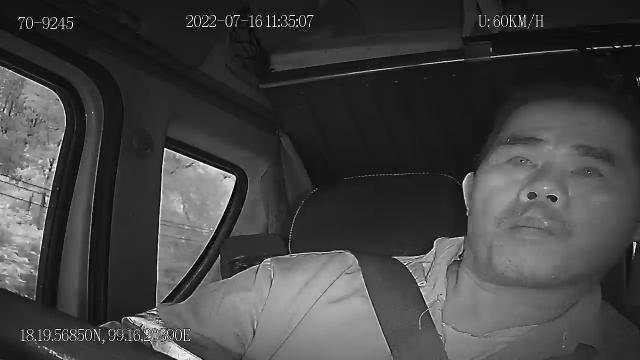SafeDriving: (560, 153, 616, 192), (497, 144, 543, 176)
Seatbelt: (355, 252, 449, 360)
